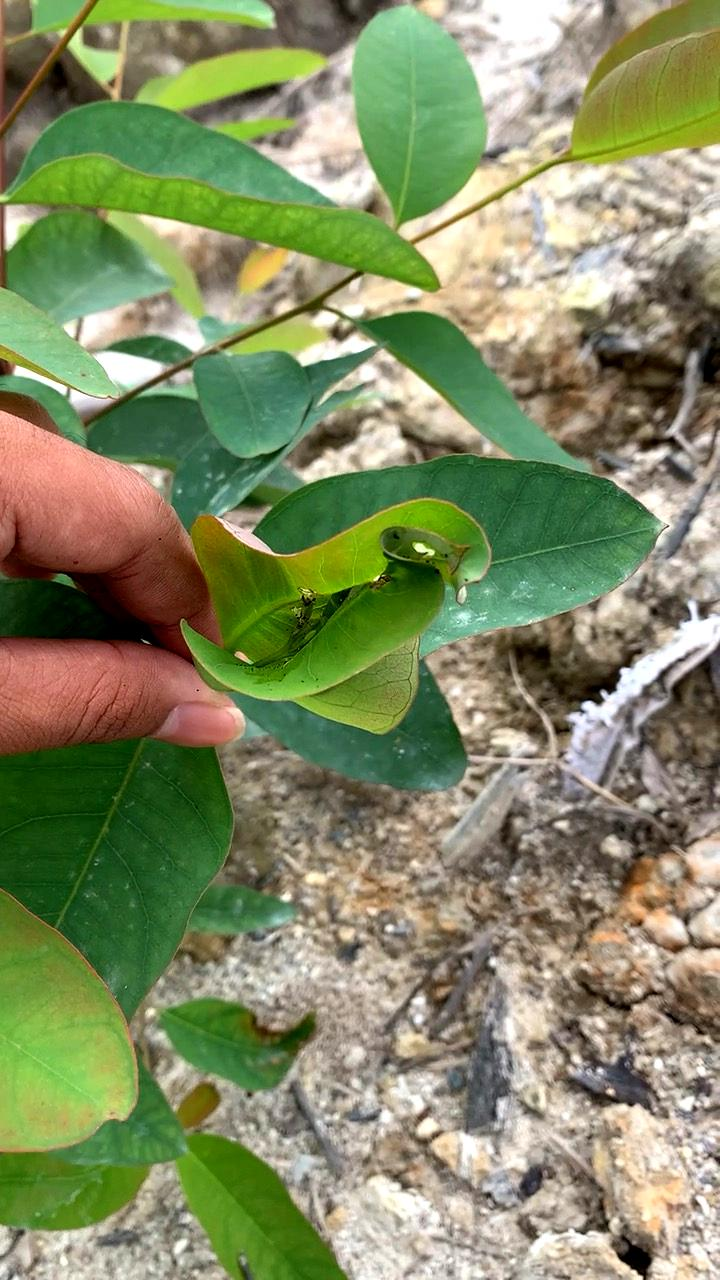Leaf Roller - Leaf: (165, 473, 500, 756)
